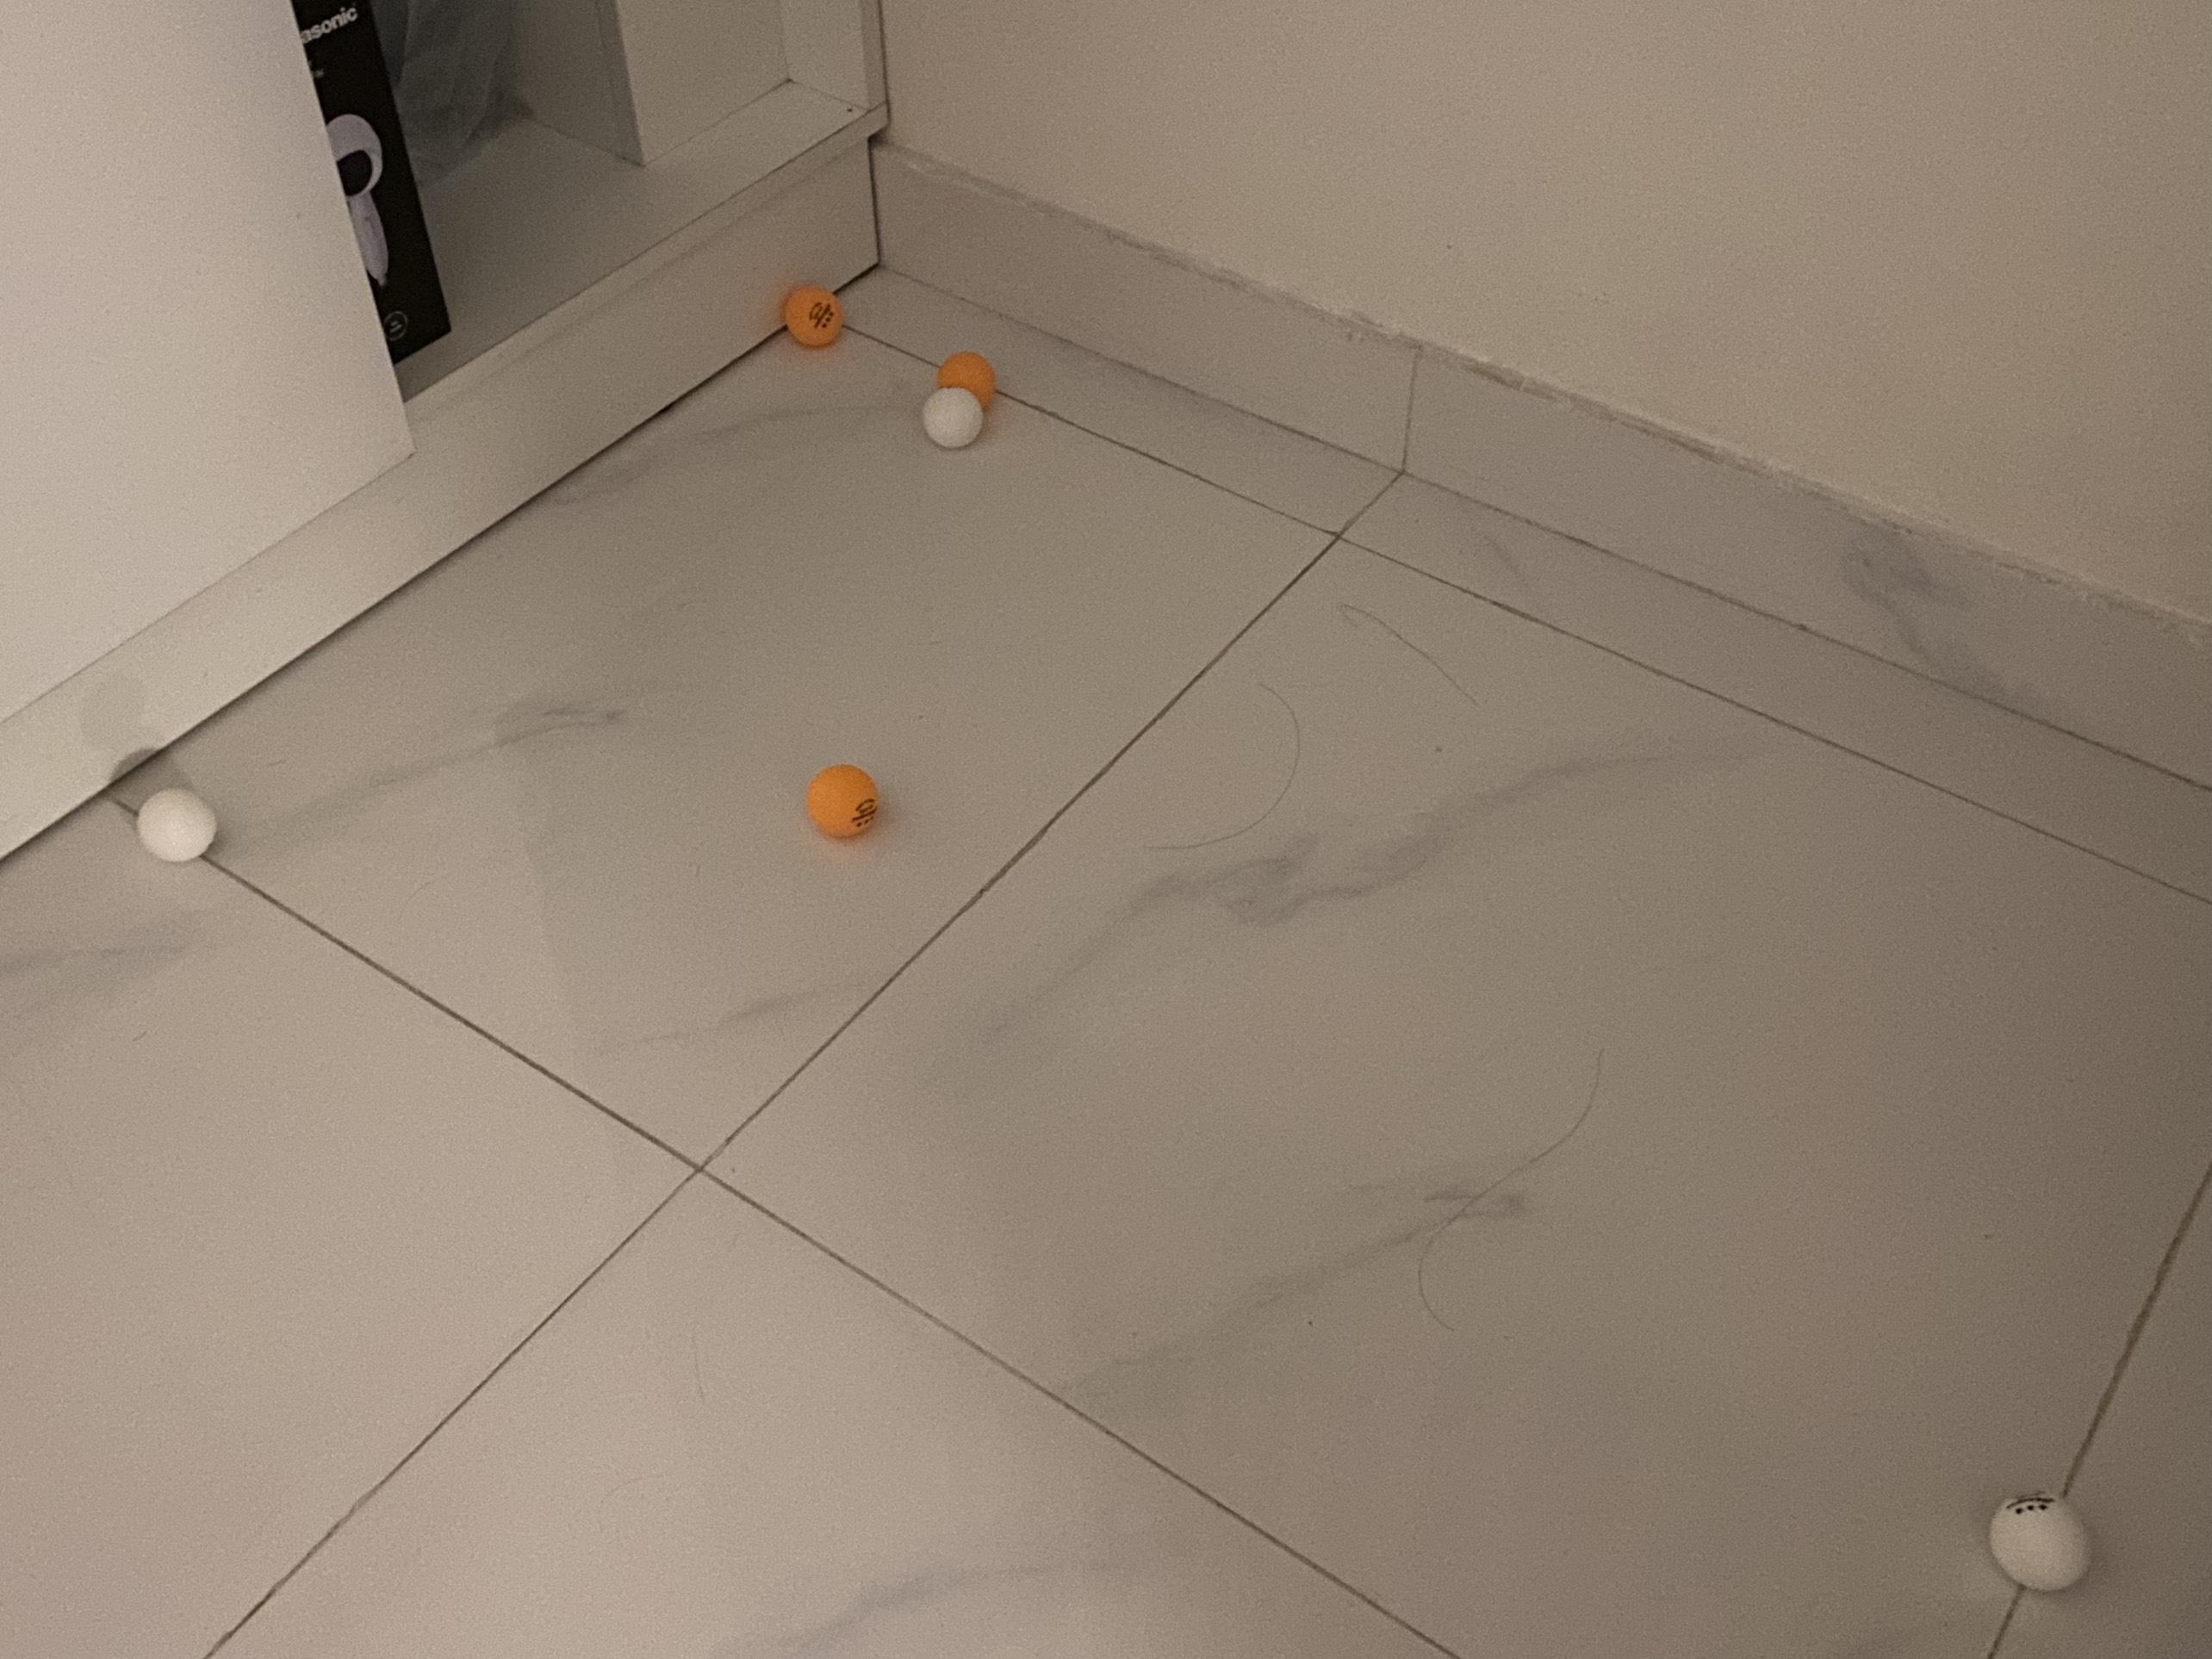oball: (808, 765, 885, 840), (932, 349, 1000, 418), (780, 281, 848, 349)
